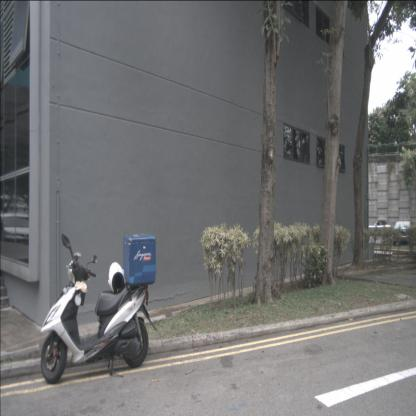vehicle-car: (392, 219, 416, 246), (368, 219, 392, 236)
vehicle-motorcycle: (40, 233, 158, 384)
